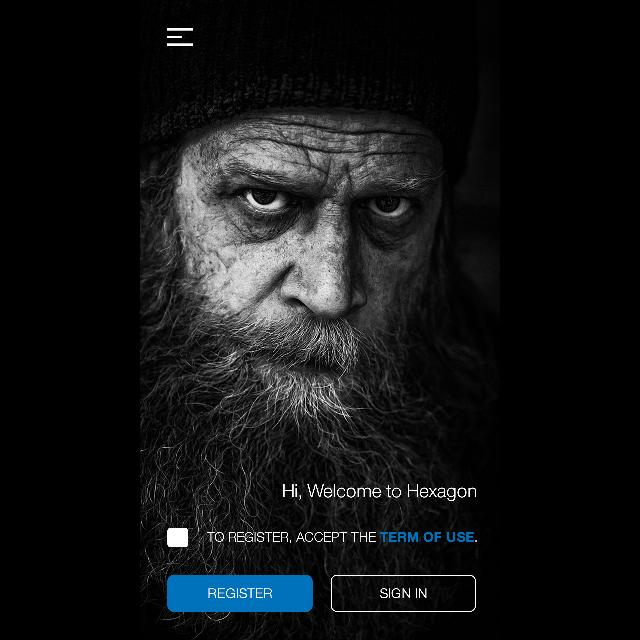backgroundimage: (140, 1, 500, 640)
checkbox: (168, 527, 188, 547)
icon: (167, 28, 193, 46)
text: (284, 484, 476, 502), (208, 532, 477, 544)
textbutton: (332, 574, 476, 612), (168, 576, 312, 612)
